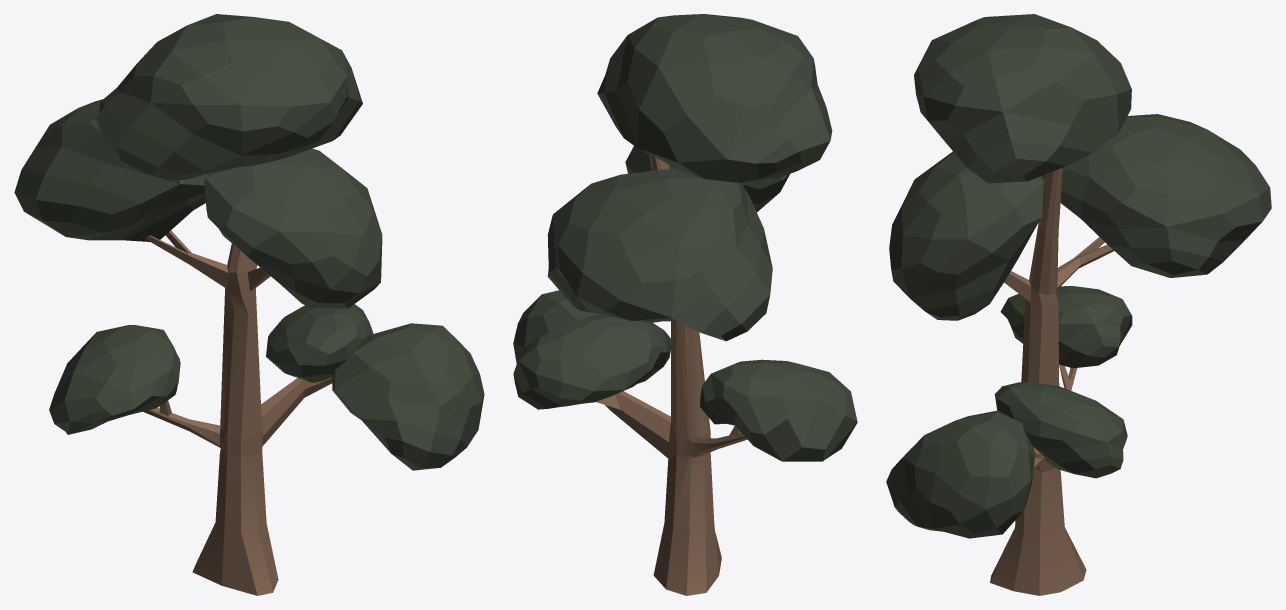
Rendered from tree_oak1.fbx.
The picture shows the model from 3 angles, left to right: view 1: azimuth 30°, elevation 25°; view 2: azimuth 150°, elevation 25°; view 3: azimuth 270°, elevation 25°; orthographic projection. The views are drawn at different scales.
Parts seen in each view (by area): view 1: pPlatonic4, pPlatonic1, tree_oak1, pPlatonic5, pPlatonic2, pPlatonic3, pPlatonic6; view 2: pPlatonic4, pPlatonic2, tree_oak1, pPlatonic3, pPlatonic6, pPlatonic5, pPlatonic1; view 3: pPlatonic4, pPlatonic2, pPlatonic1, tree_oak1, pPlatonic5, pPlatonic6, pPlatonic3.
Boxes of the visible parts, <box> form: pPlatonic4: <box>96,14,362,180</box>; pPlatonic1: <box>204,148,382,308</box>; tree_oak1: <box>143,230,331,595</box>; pPlatonic5: <box>332,323,484,470</box>; pPlatonic2: <box>14,99,209,241</box>; pPlatonic3: <box>49,324,180,434</box>; pPlatonic6: <box>266,304,373,382</box>; pPlatonic4: <box>597,14,832,182</box>; pPlatonic2: <box>547,168,772,341</box>; tree_oak1: <box>596,154,747,595</box>; pPlatonic3: <box>699,359,857,461</box>; pPlatonic6: <box>513,314,663,409</box>; pPlatonic5: <box>513,290,670,383</box>; pPlatonic1: <box>625,146,789,212</box>; pPlatonic4: <box>914,14,1131,183</box>; pPlatonic2: <box>1043,114,1271,277</box>; pPlatonic1: <box>889,151,1045,320</box>; tree_oak1: <box>990,167,1113,595</box>; pPlatonic5: <box>886,410,1035,538</box>; pPlatonic6: <box>994,382,1127,478</box>; pPlatonic3: <box>1000,286,1132,368</box>.
Size of the model in its own units: 8.09 by 11.4 by 7.35.
